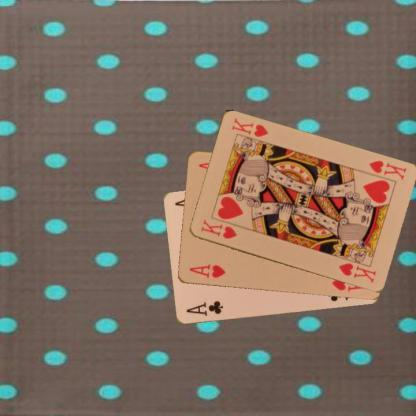Ac: (183, 298, 224, 318)
Ah: (186, 262, 226, 280)
Kh: (366, 158, 407, 182), (198, 217, 238, 240)
